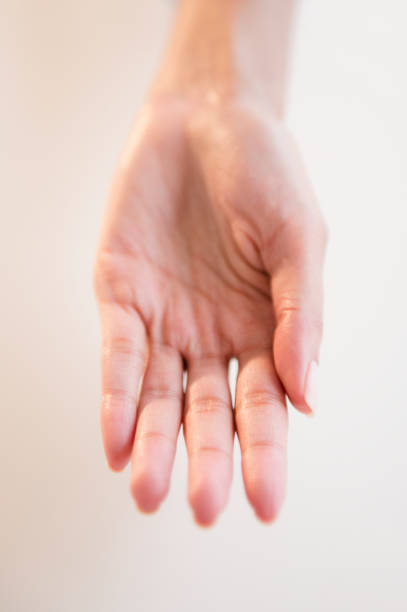hand: (56, 68, 354, 542)
